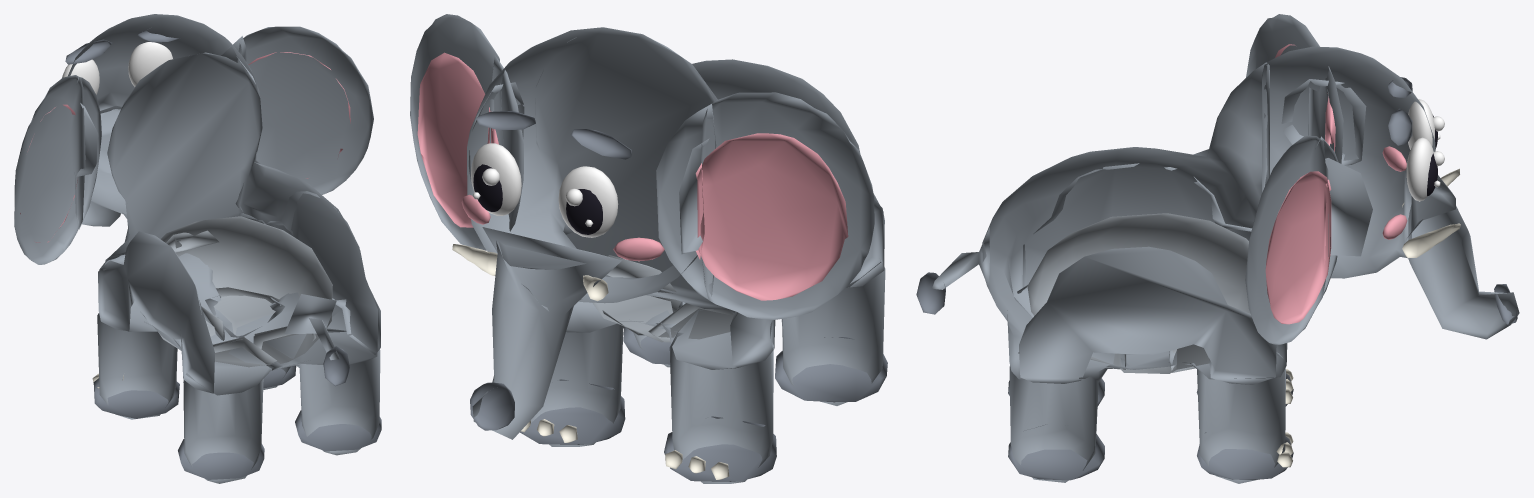
The model's file is hero_elephant.glb.
3 views of the same model, side by side, from view 1: azimuth 30°, elevation 25°; view 2: azimuth 150°, elevation 25°; view 3: azimuth 270°, elevation 25° (orthographic). The views are drawn at different scales.
Visible parts, largest first — view 1: body, earL, earR, head, legBL, legFL, legBR, tail, legFR, trunk; view 2: head, earL, trunk, earR, legFL, legBL, body, legFR, legBR; view 3: earR, body, head, legFR, legBR, trunk, earL, tail.
Part boxes in pixels (box(x1,y1,x2,y2)): body: box(99, 52, 377, 395); earL: box(14, 75, 214, 393); earR: box(236, 26, 380, 354); head: box(62, 14, 265, 270); legBL: box(178, 337, 282, 483); legFL: box(92, 306, 224, 419); legBR: box(253, 326, 381, 455); tail: box(284, 294, 349, 386); legFR: box(205, 287, 296, 389); trunk: box(82, 106, 121, 226); head: box(452, 27, 729, 311); earL: box(679, 92, 884, 367); trunk: box(470, 227, 622, 439); earR: box(410, 14, 524, 250); legFL: box(648, 303, 776, 483); legBL: box(775, 258, 887, 405); body: box(535, 33, 883, 369); legFR: box(520, 296, 682, 446); legBR: box(623, 327, 671, 367); earR: box(1019, 135, 1372, 384); body: box(982, 62, 1287, 379); head: box(1262, 46, 1460, 300); legFR: box(1169, 349, 1293, 483); legBR: box(1008, 352, 1126, 482); trunk: box(1404, 172, 1519, 339); earL: box(1022, 14, 1366, 287); tail: box(916, 227, 989, 314).
Bounding box in the file's own units: 8.25 × 7.76 × 10.87.
Materials: 1 (1 with a texture image).
